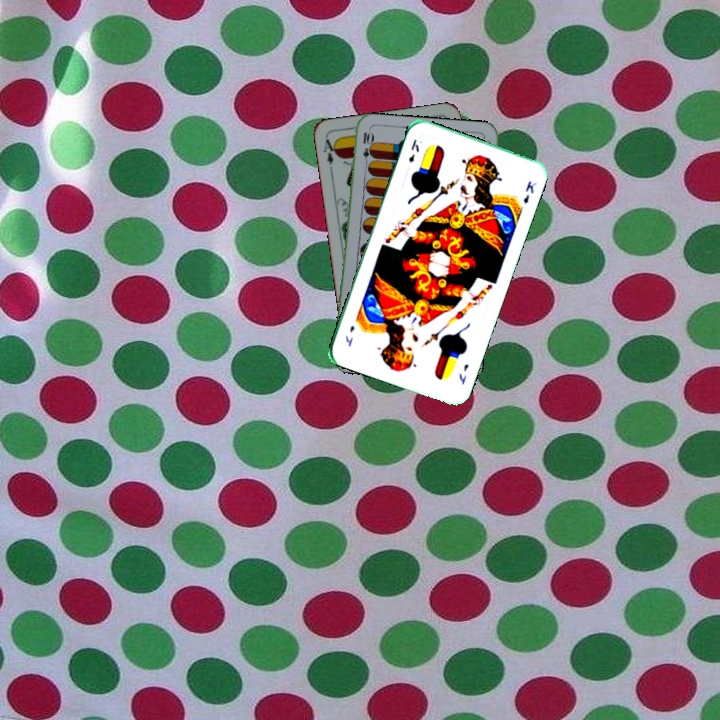E10: (359, 128, 374, 169)
EA: (319, 135, 340, 174)
EK: (404, 136, 422, 165), (455, 360, 471, 387)
